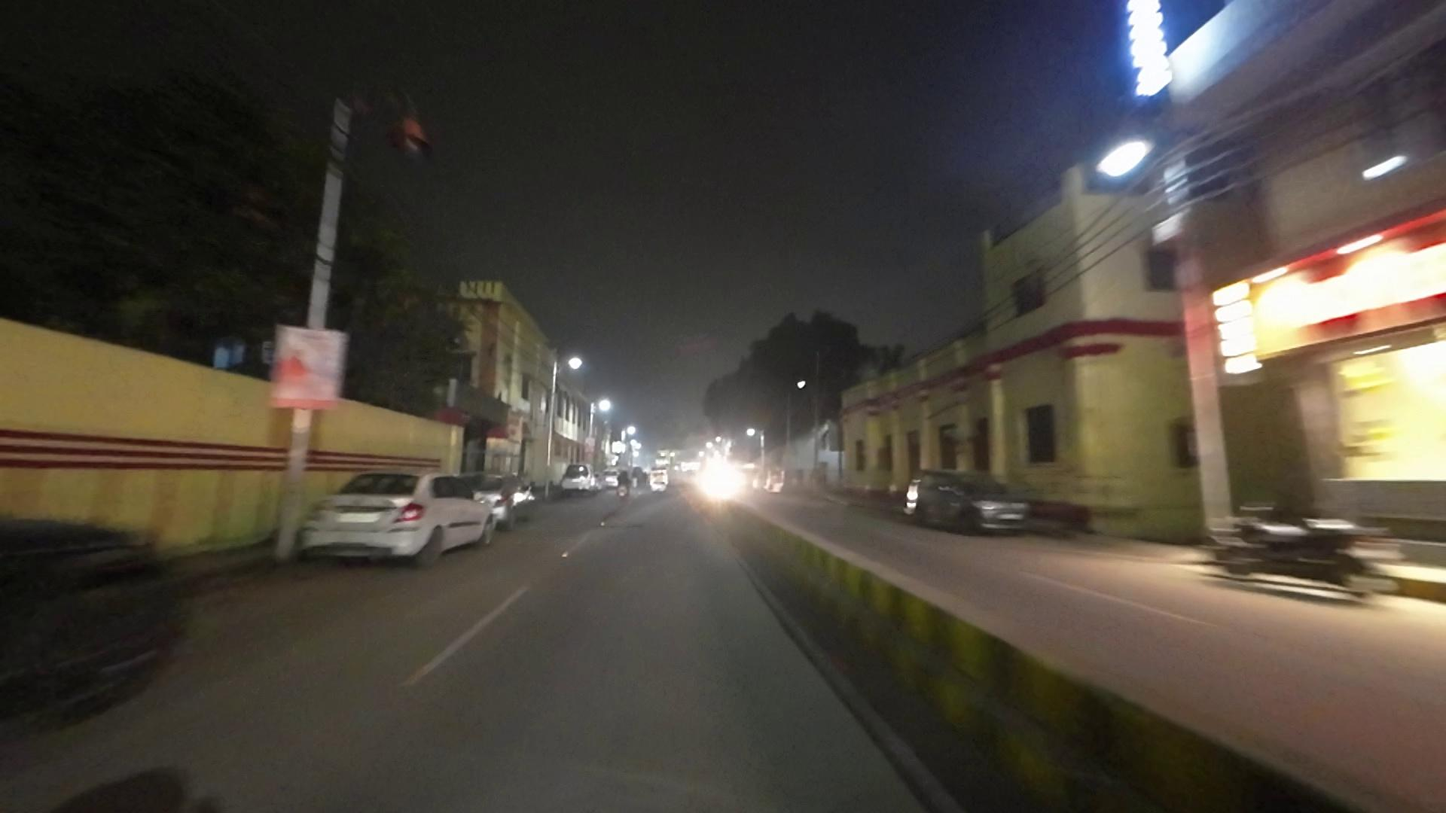streetlight: (382, 82, 432, 159)
